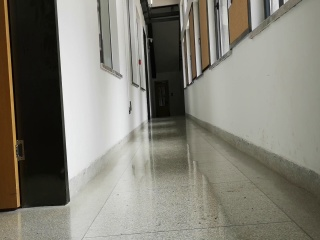room: (1, 1, 73, 213)
